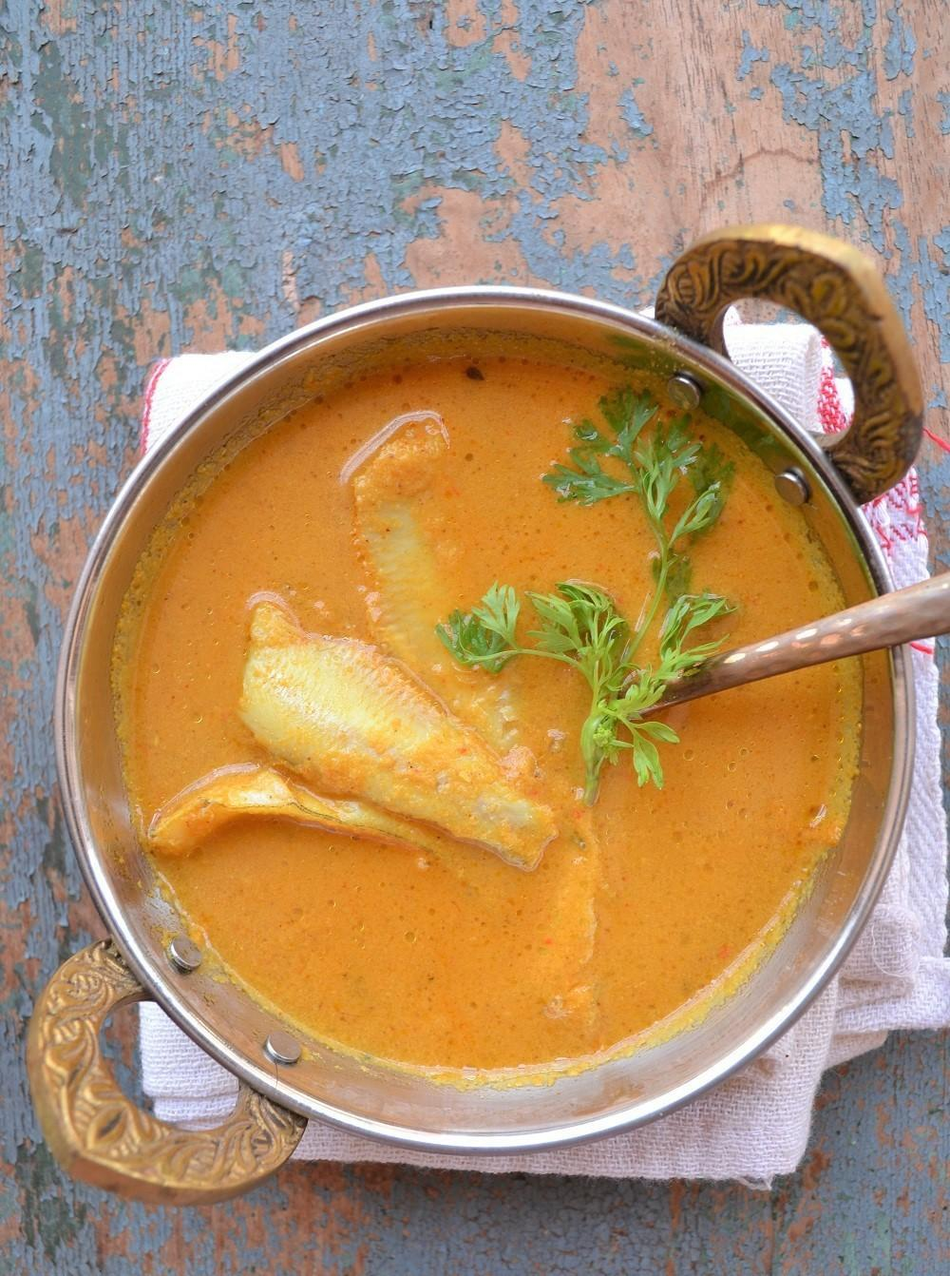FishCurry: (146, 365, 862, 1071)
